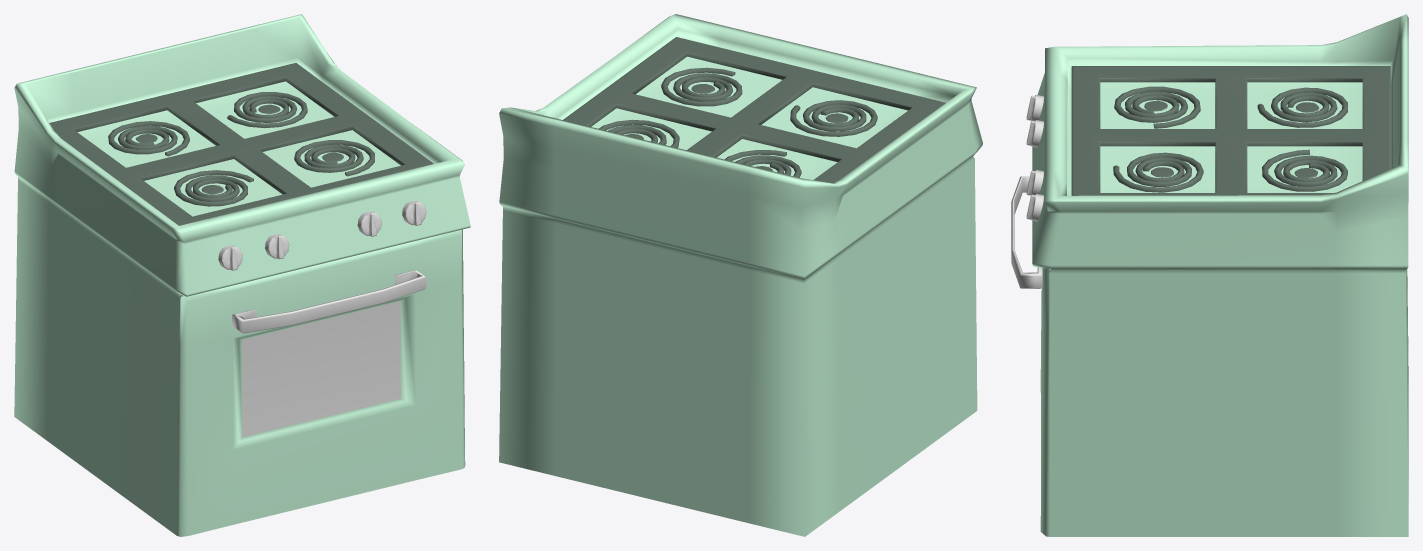
File: Stovetop_Full.fbx
3 views of the same model, side by side, from view 1: azimuth 30°, elevation 25°; view 2: azimuth 150°, elevation 25°; view 3: azimuth 270°, elevation 25° (orthographic). The views are drawn at different scales.
Visible parts, largest first — view 1: Stovetop, BurnerHolder, Handle, Burner4, Burner1, Burner3, Burner2; view 2: Stovetop, BurnerHolder, Burner2, Burner1, Burner4, Burner3; view 3: Stovetop, BurnerHolder, Burner1, Burner3, Burner2, Burner4, Handle.
Boxes of the visible parts, x1,y1,x2,y2 form: Stovetop: (14,14,470,536); BurnerHolder: (49,63,433,225); Handle: (232,270,426,333); Burner4: (227,92,307,128); Burner1: (174,170,253,206); Burner3: (108,121,189,156); Burner2: (294,140,374,176); Stovetop: (499,14,982,536); BurnerHolder: (563,37,945,182); Burner2: (661,67,742,106); Burner1: (790,100,877,136); Burner4: (599,119,679,147); Burner3: (725,150,801,177); Stovetop: (1032,14,1408,536); BurnerHolder: (1071,66,1390,195); Burner1: (1114,86,1200,128); Burner3: (1257,87,1347,127); Burner2: (1113,152,1203,192); Burner4: (1262,149,1347,191); Handle: (1011,176,1042,288).
Bounding box in the file's own units: 1752 × 1940 × 1892.
